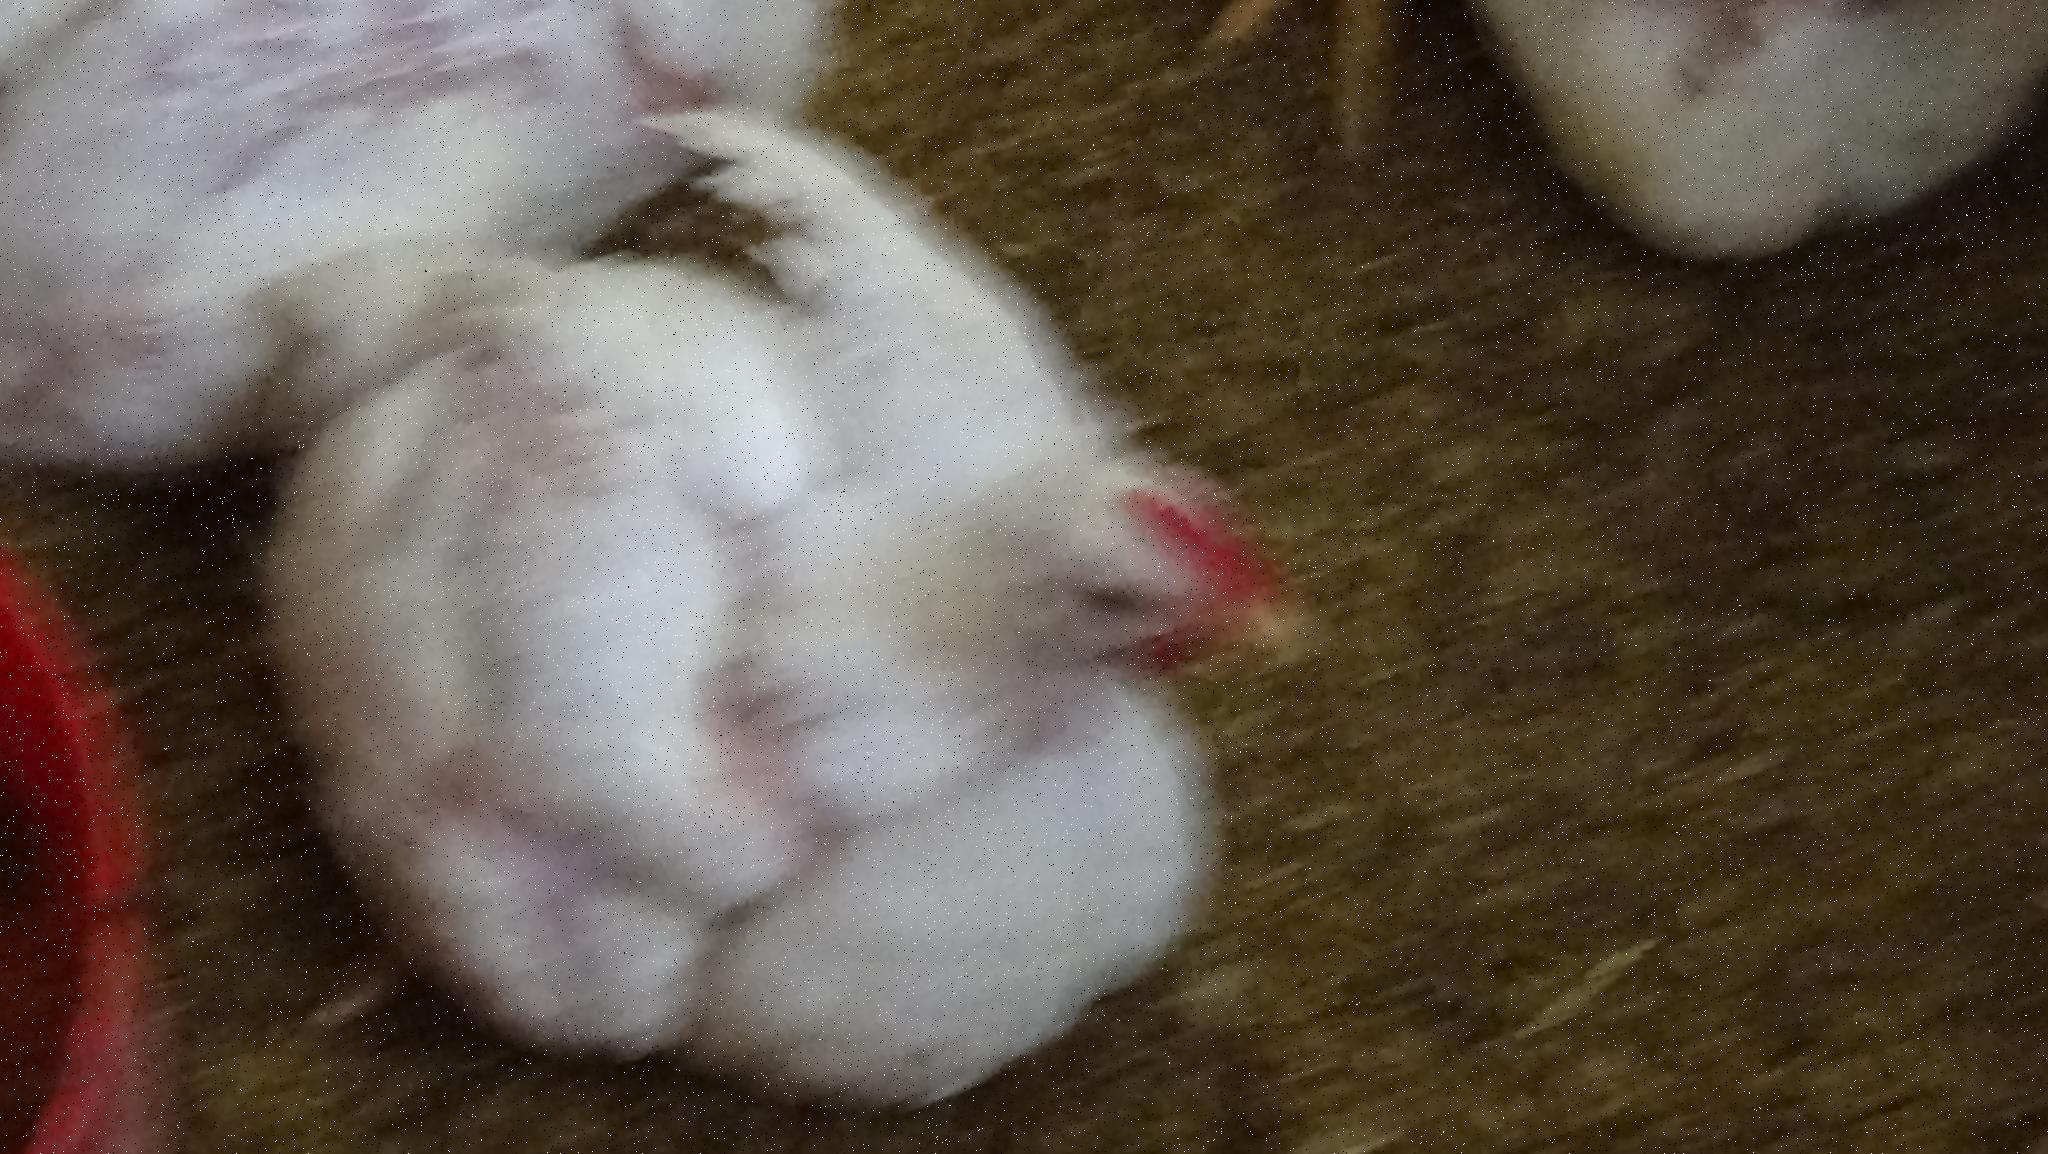Pollos: (255, 184, 1308, 1122)
